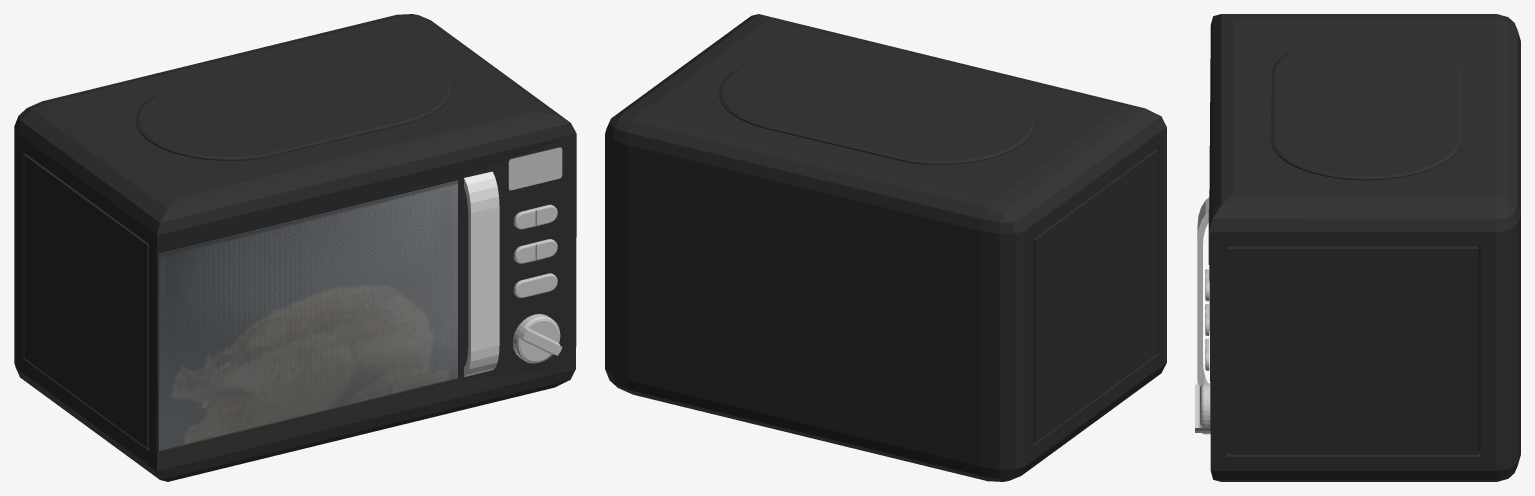
Rendered from Four.fbx.
3 renders of one model, left to right at view 1: azimuth 30°, elevation 25°; view 2: azimuth 150°, elevation 25°; view 3: azimuth 270°, elevation 25°, orthographic.
Parts seen in each view (by area): view 1: Cube, Circle.003, Cube.002, Cylinder.001, Cube.001, Circle, Circle.002, Circle.001; view 2: Cube, Circle.003; view 3: Cube, Circle.003, Cube.002, Cylinder.001.
Part boxes in pixels (<box>): Cube: <box>14,14,576,481</box>; Circle.003: <box>135,49,451,160</box>; Cube.002: <box>464,171,499,377</box>; Cylinder.001: <box>513,314,562,363</box>; Cube.001: <box>507,147,562,190</box>; Circle: <box>513,204,557,229</box>; Circle.002: <box>513,273,557,297</box>; Circle.001: <box>513,239,557,263</box>; Cube: <box>605,14,1166,481</box>; Circle.003: <box>719,53,1034,164</box>; Cube: <box>1209,14,1520,481</box>; Circle.003: <box>1270,35,1462,180</box>; Cube.002: <box>1197,197,1209,384</box>; Cylinder.001: <box>1195,383,1210,434</box>.
Bounding box in the file's own units: 897 × 574 × 594.
